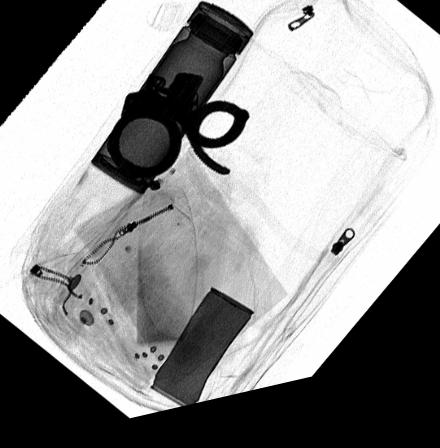HandCuffs: (108, 79, 251, 185)
